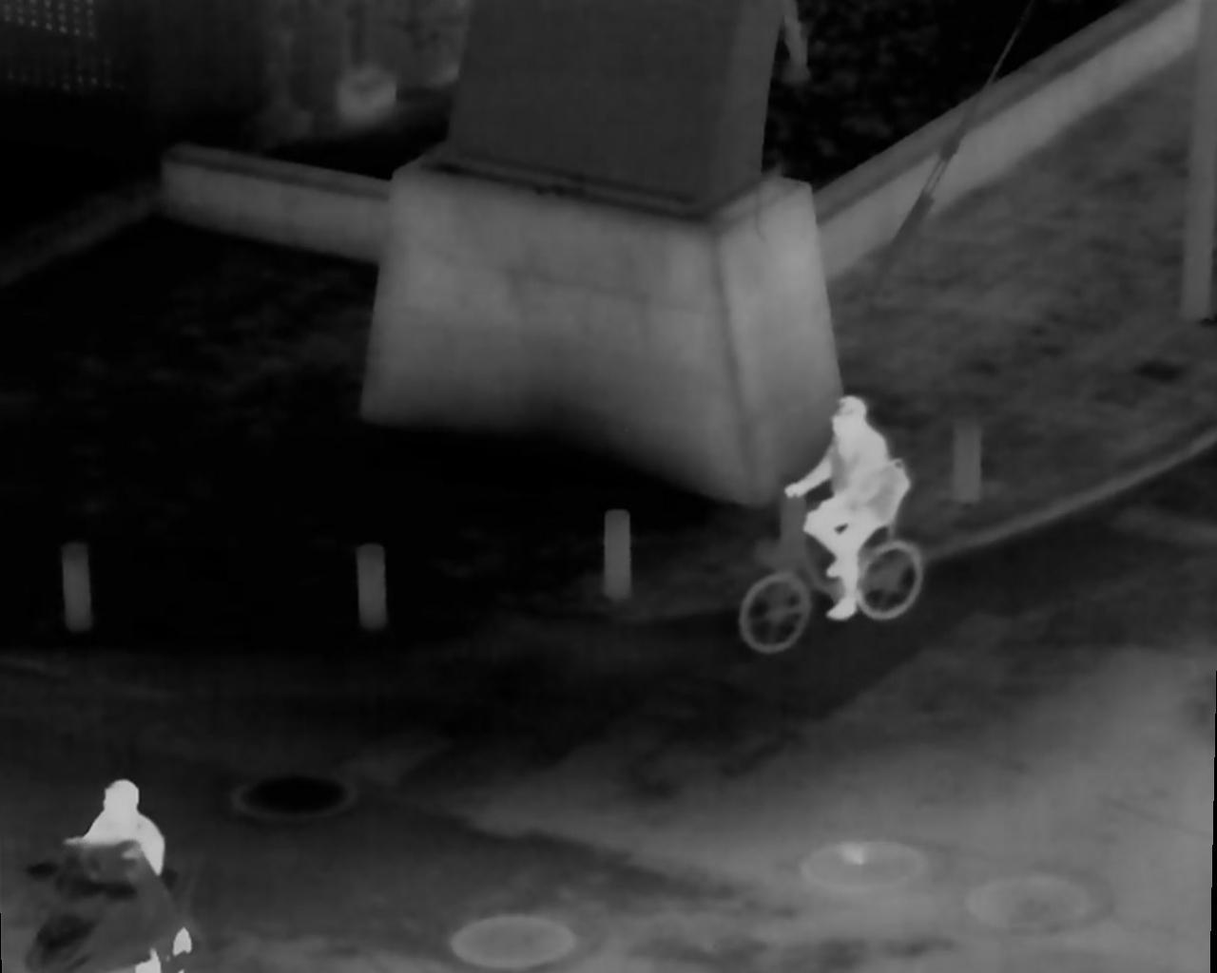person: (783, 399, 908, 635), (57, 782, 173, 973)
